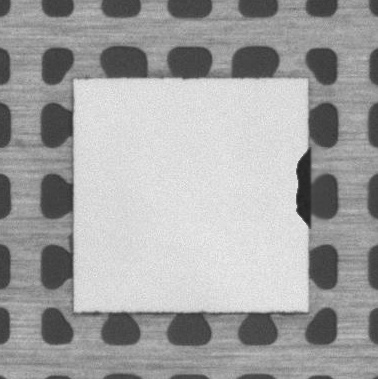DIE_BROKEN: (292, 148, 313, 225)
